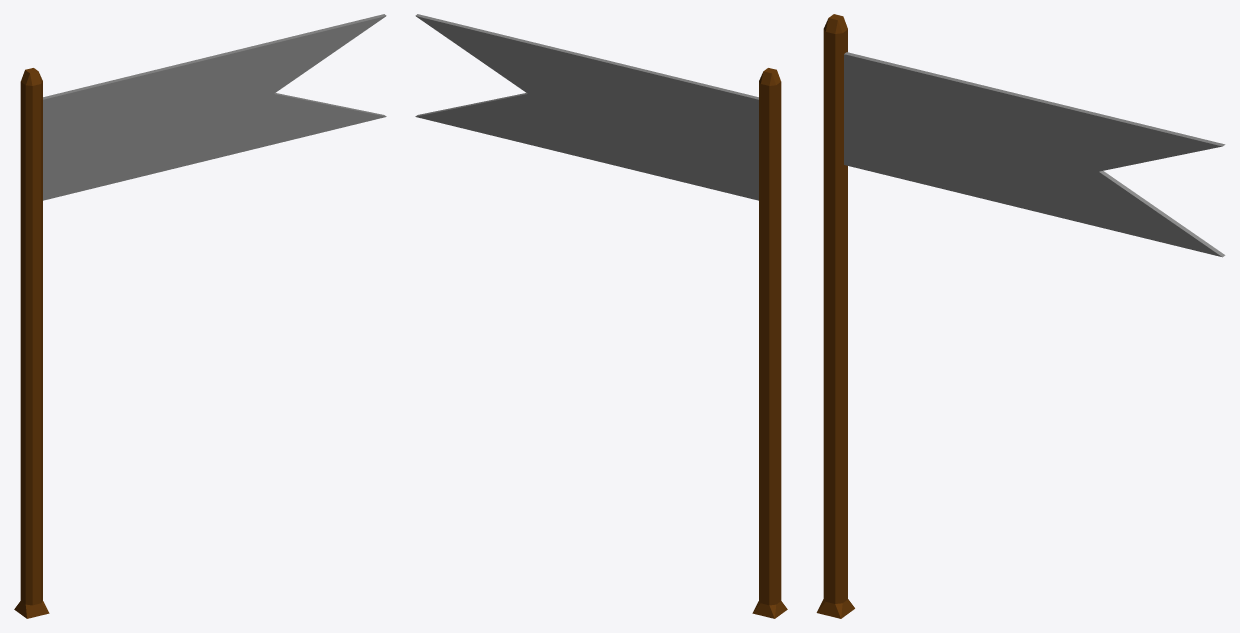
File: TeamFlag.fbx
3 views of the same model, side by side, from view 1: azimuth 30°, elevation 25°; view 2: azimuth 150°, elevation 25°; view 3: azimuth 330°, elevation 25° (orthographic). The views are drawn at different scales.
Visible parts, largest first — view 1: TeamFlag; view 2: TeamFlag; view 3: TeamFlag.
Part boxes in pixels (x1,y1,x2,y2): TeamFlag: (14,14,386,618); TeamFlag: (415,14,787,618); TeamFlag: (816,14,1225,618).
Size of the model in its own units: 212 by 300 by 13.08.
